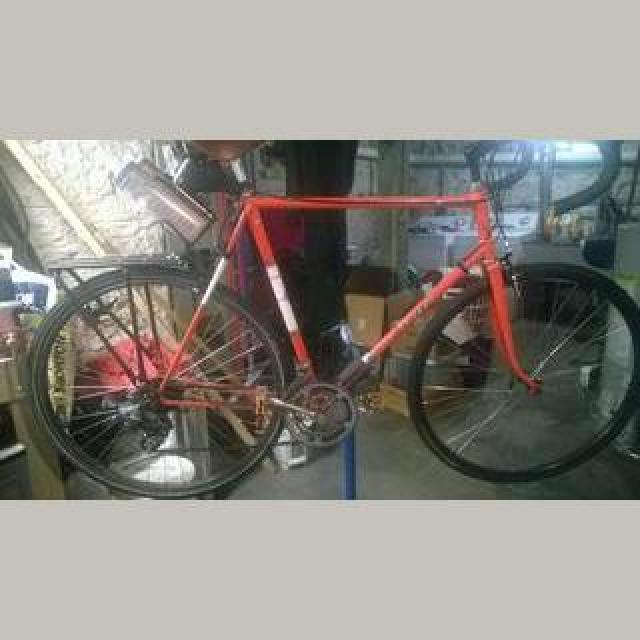Person: (38, 154, 640, 500)
